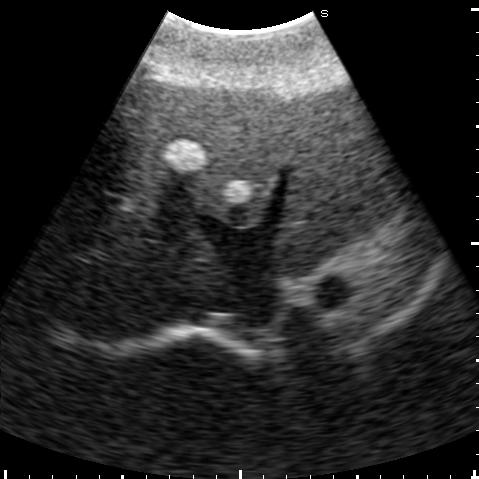S2: (279, 97, 392, 277)
S4: (109, 79, 290, 226)
S7: (49, 245, 166, 341)
S8: (90, 155, 221, 283)
Tumor: (158, 139, 206, 172), (222, 181, 249, 204)
